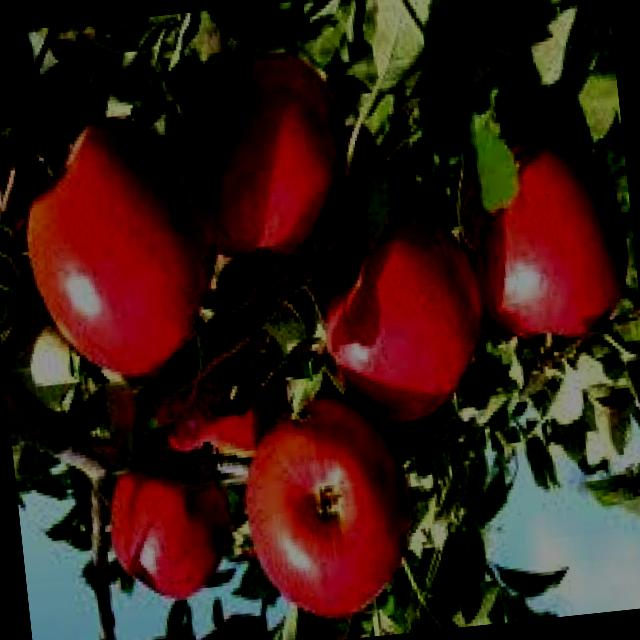Apple: (14, 106, 232, 389), (310, 188, 496, 435), (236, 391, 424, 628), (170, 46, 358, 268), (462, 130, 638, 350), (104, 442, 241, 610), (148, 340, 296, 469), (201, 610, 278, 640)
